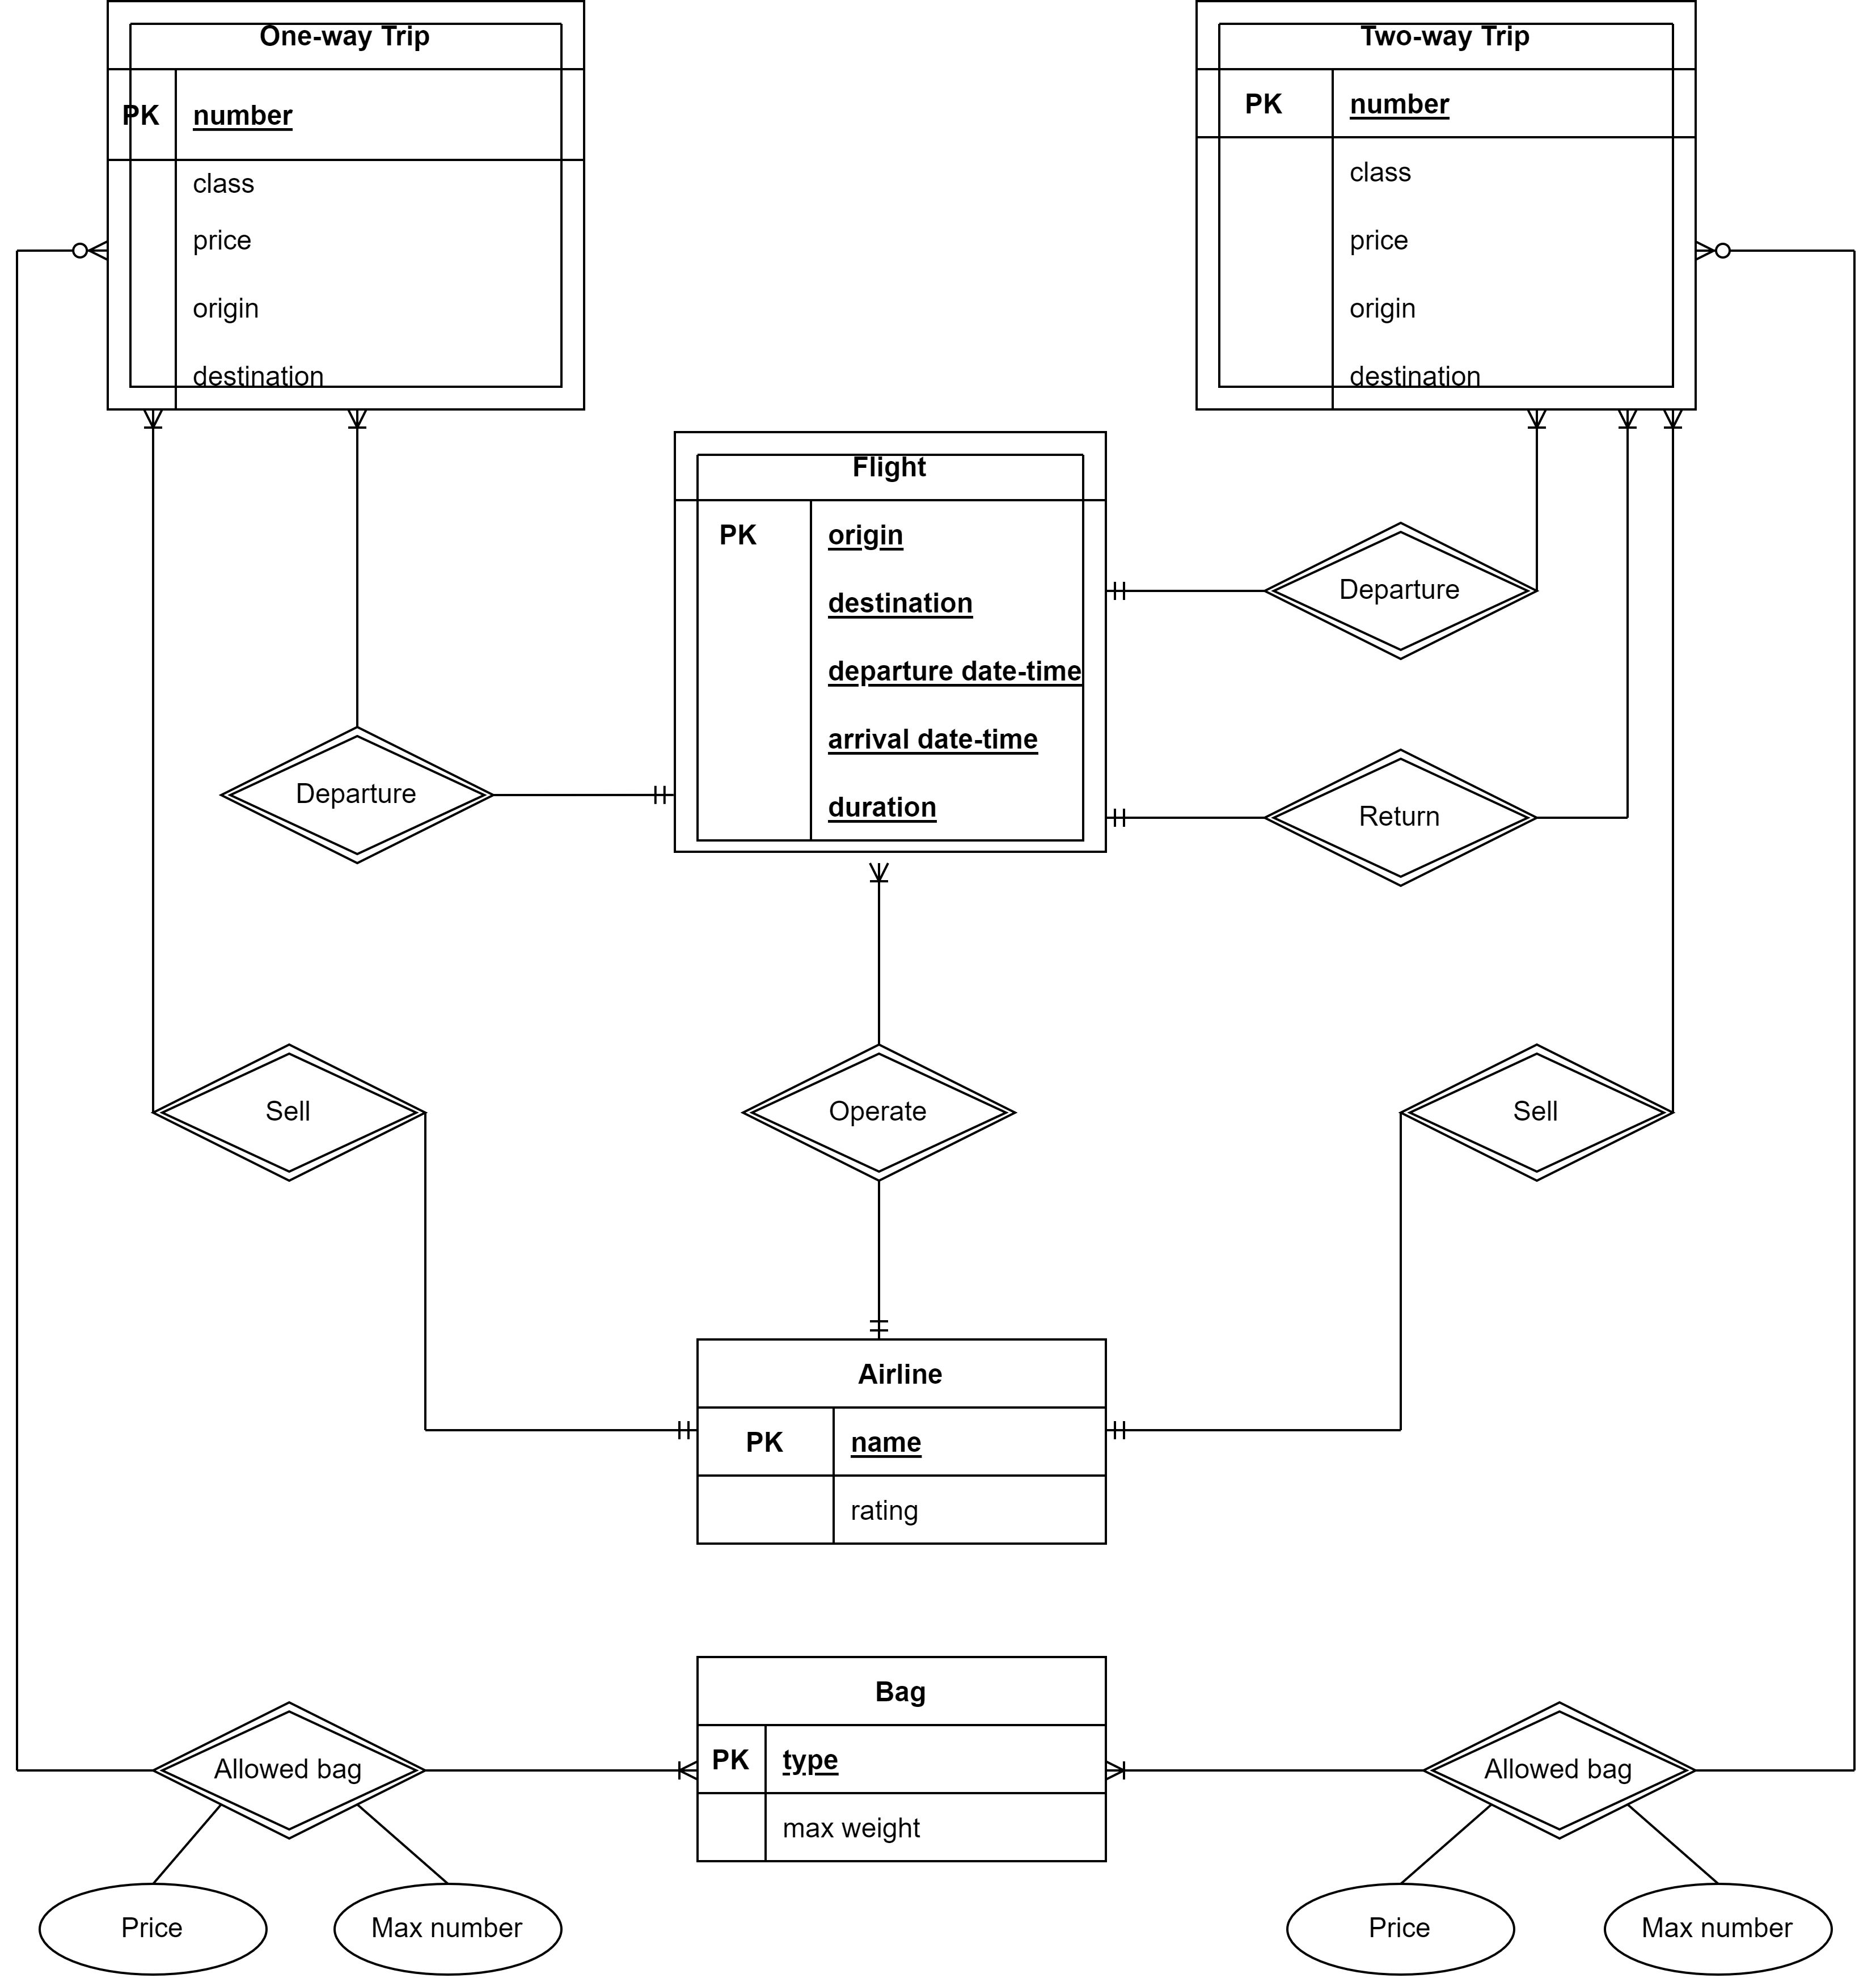entity: (695, 1336, 1105, 1546), (696, 1657, 1104, 1863)
ident_rel: (1261, 746, 1539, 892), (1414, 1699, 1700, 1840), (219, 721, 492, 864), (150, 1047, 428, 1185), (1266, 522, 1536, 663), (153, 1701, 421, 1842), (1398, 1049, 1675, 1176), (741, 1047, 1021, 1172)
many: (837, 855, 915, 926), (1694, 215, 1765, 293), (621, 1740, 702, 1807), (1104, 1740, 1178, 1805), (9, 229, 109, 275), (1647, 405, 1701, 478), (1601, 405, 1652, 474), (129, 402, 180, 469), (1507, 409, 1569, 460), (333, 413, 384, 462)
one: (1104, 1400, 1180, 1456), (1105, 786, 1178, 844), (1102, 561, 1178, 615), (633, 1402, 696, 1460), (852, 1271, 906, 1335), (614, 770, 677, 818)
rel_attr: (35, 1878, 272, 1978), (333, 1878, 564, 1978), (1280, 1881, 1518, 1976), (1601, 1881, 1839, 1974)
weak_entity: (1199, 4, 1691, 405), (102, 0, 582, 409), (672, 430, 1107, 855)
